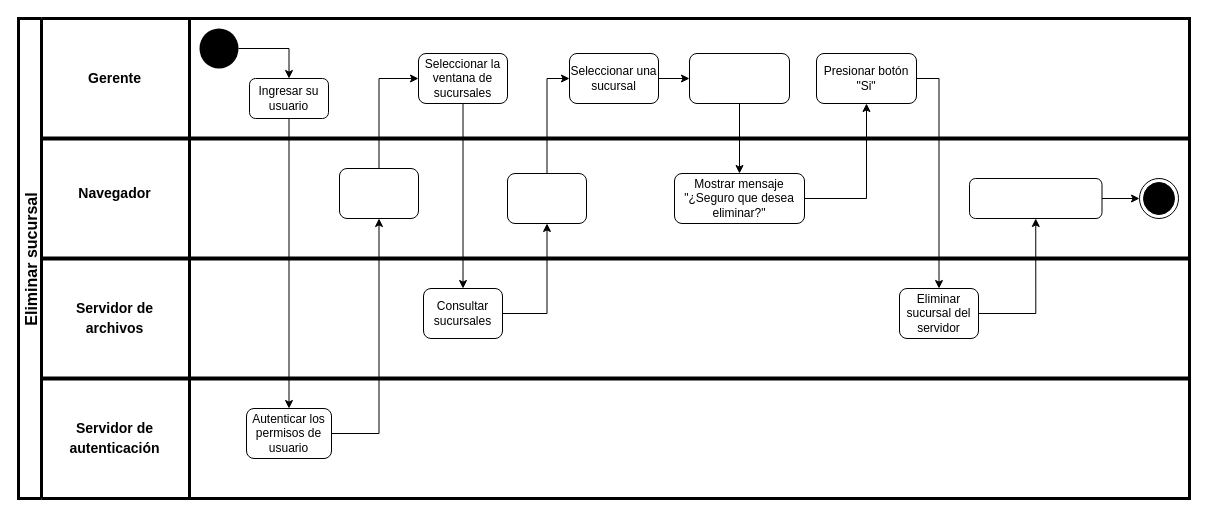
This 1210x518 diagram has some shape labels left out. Here are the shapes that lost their labels. From the top down, the box of each, then its label:
(688, 52, 790, 104): Presionar botón "Eliminar"
(338, 168, 418, 218): Mostrar la ventana del gerente
(506, 172, 586, 224): Mostrar lista de sucursales
(968, 178, 1102, 218): Mostrar mensaje "Sucursal eliminada"
